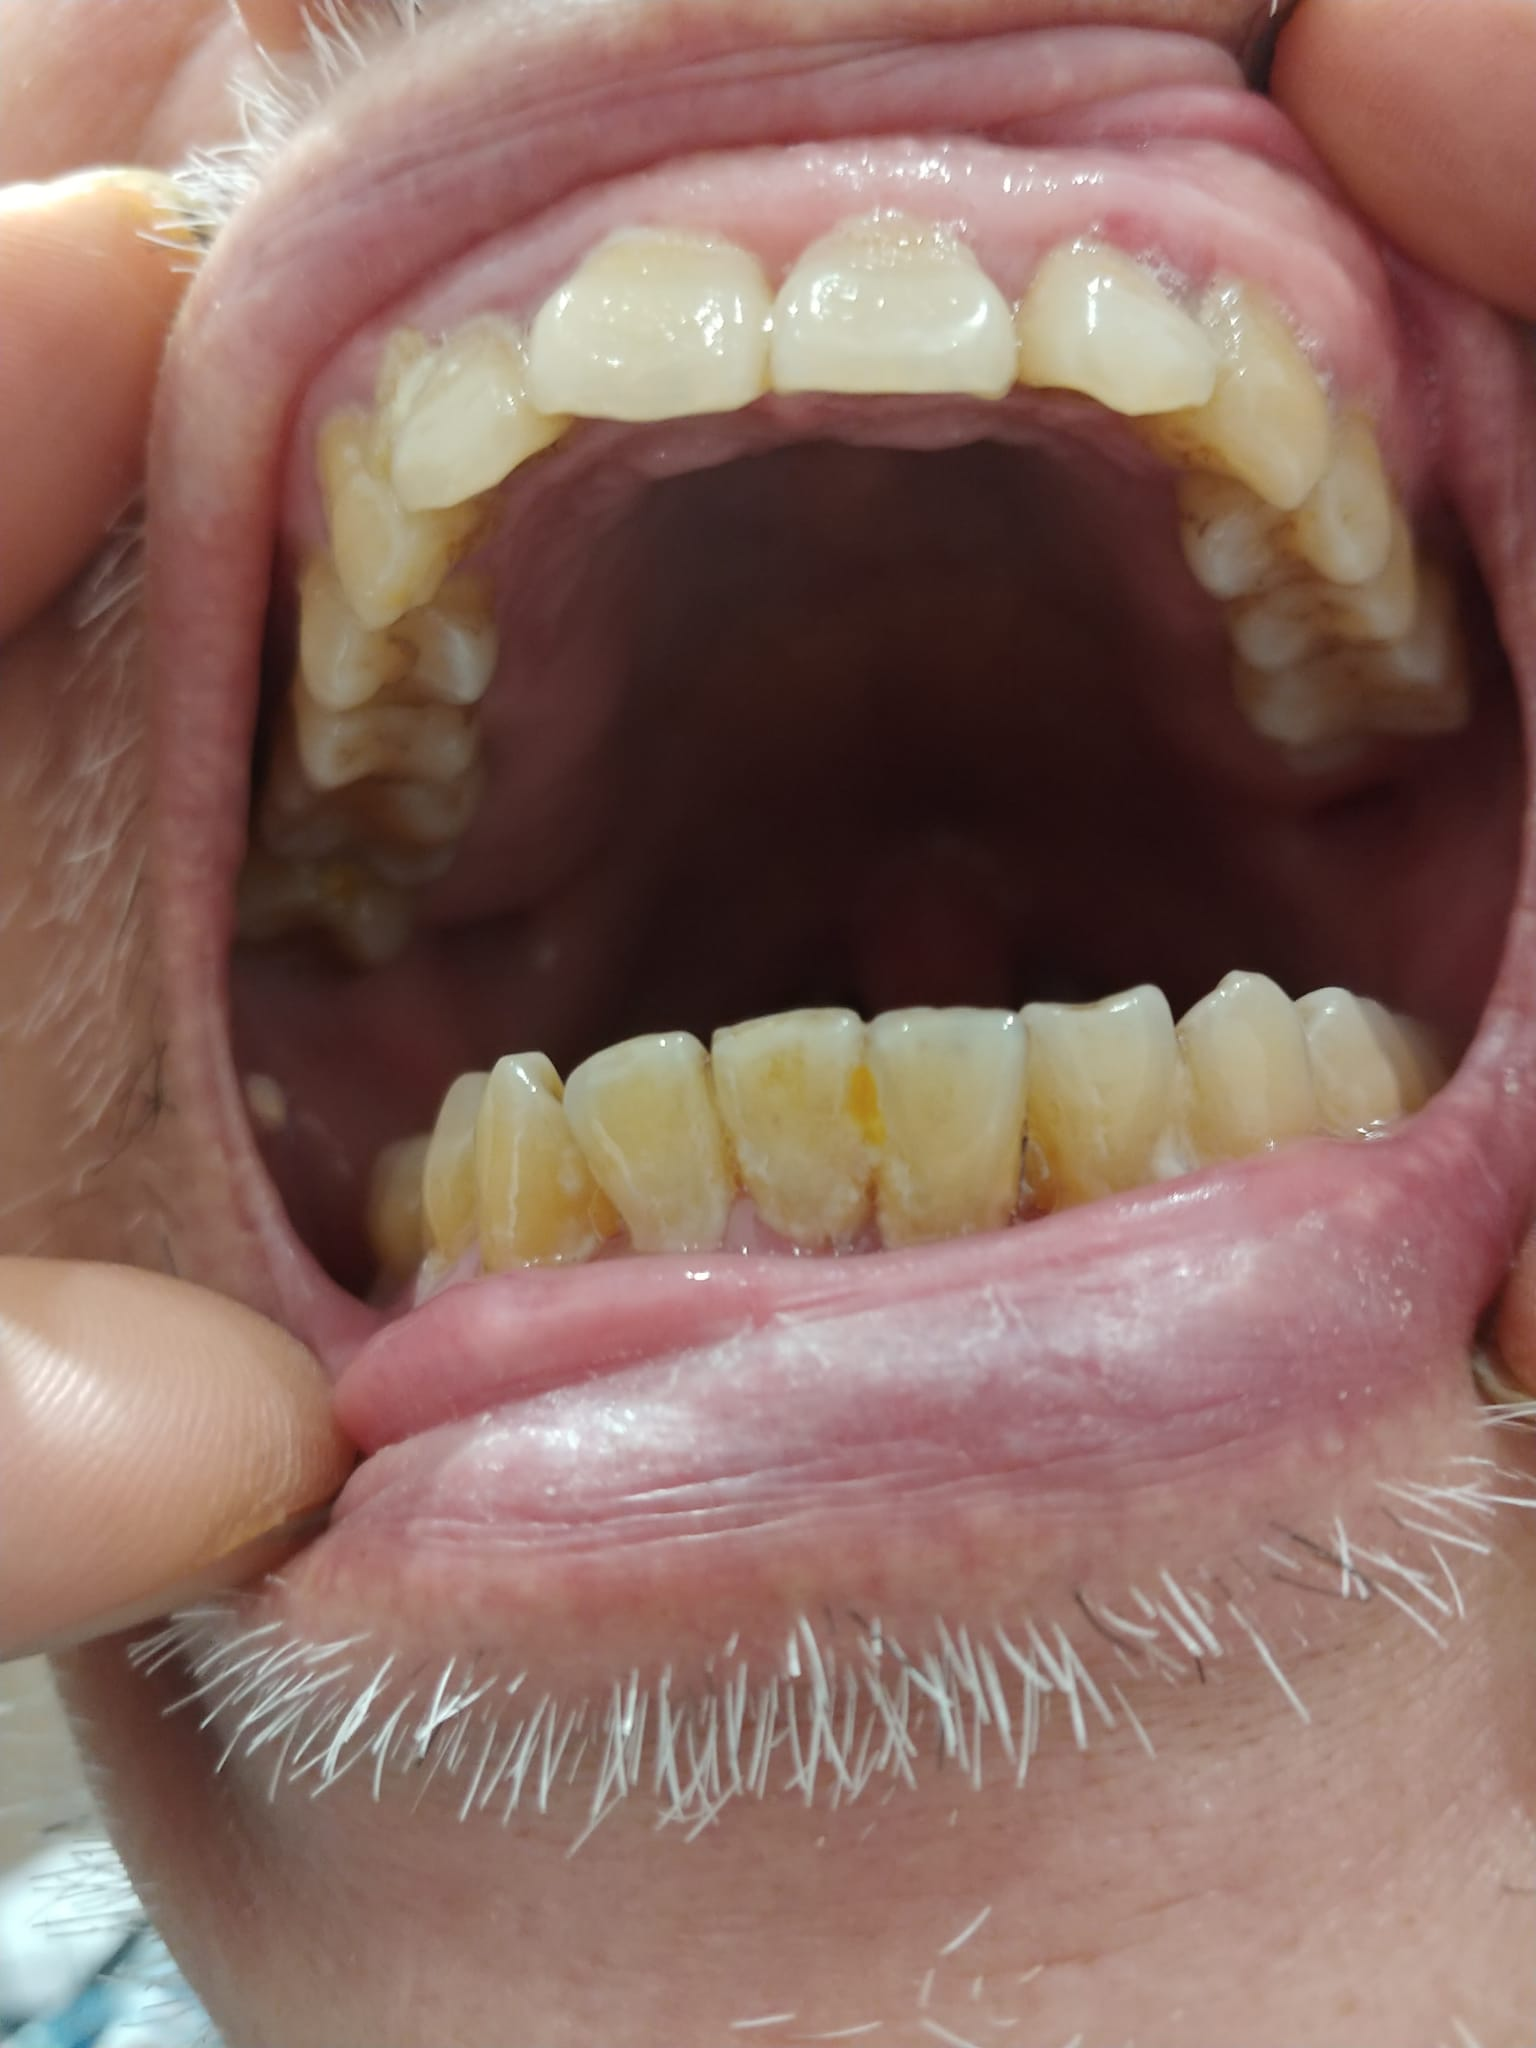teeth: (1167, 285, 1344, 516), (786, 219, 1021, 392), (541, 244, 770, 419), (716, 1005, 874, 1237), (1034, 992, 1192, 1203), (878, 1014, 1034, 1227), (570, 1040, 728, 1250), (1204, 423, 1396, 593), (1023, 242, 1204, 421), (298, 574, 492, 722), (318, 411, 449, 621), (394, 323, 541, 502), (476, 1056, 591, 1279), (1191, 976, 1325, 1151), (1315, 1000, 1394, 1127)
